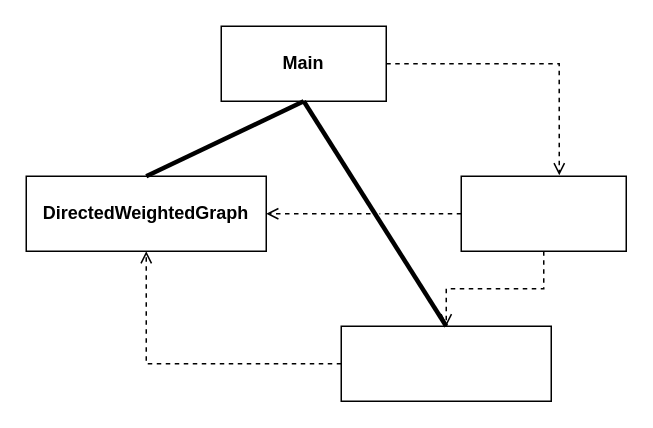
The diagram is 653 pixels wide and 428 high, and some of its shapes have lost their labels. The shapes that lost their labels are listed below. From the top down, each one's centre as x and y in pixels, then its label:
At (543,213): "FloydWarshall".
At (445,363): "FloydWarshallResult".
